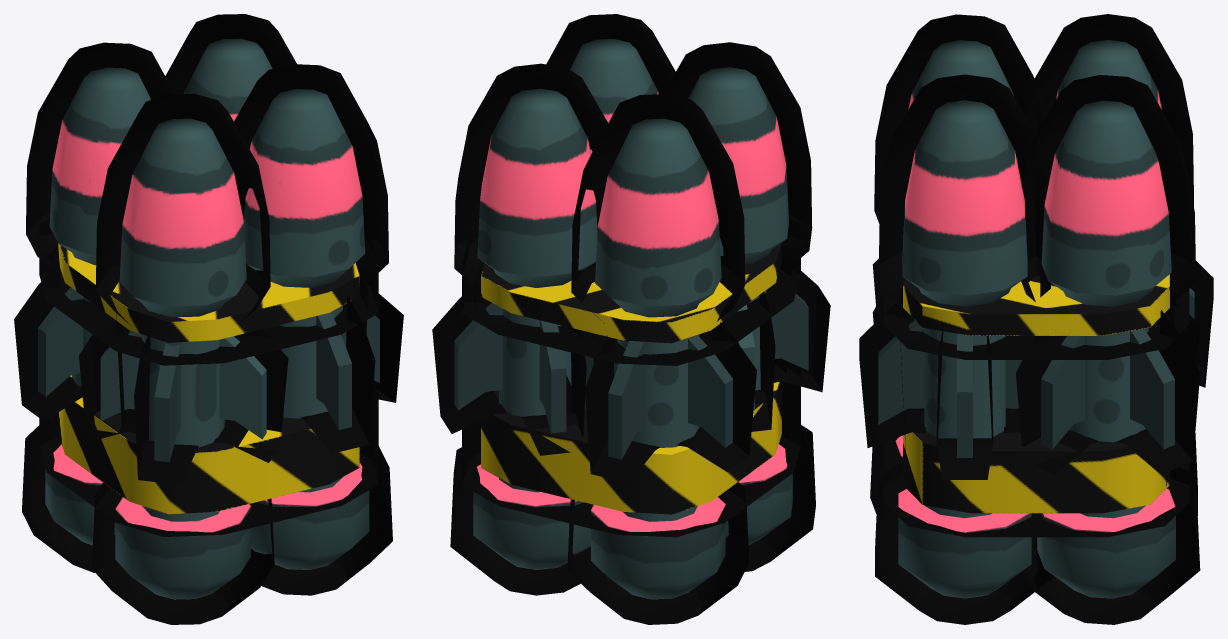
Rendered from ammo_HOMING.fbx.
3 renders of one model, left to right at view 1: azimuth 30°, elevation 25°; view 2: azimuth 150°, elevation 25°; view 3: azimuth 270°, elevation 25°, orthographic. The views are drawn at different scales.
Visible parts, largest first — view 1: pCylinder16 (×2); view 2: pCylinder16 (×2); view 3: pCylinder16 (×2).
Boxes of the visible parts, x1,y1,x2,y2 form: pCylinder16 (×2): (14,14,403,624); pCylinder16 (×2): (432,14,830,624); pCylinder16 (×2): (859,14,1213,624).
Size of the model in its own units: 5.89 by 9.5 by 5.89.
2 materials, 1 textured.
